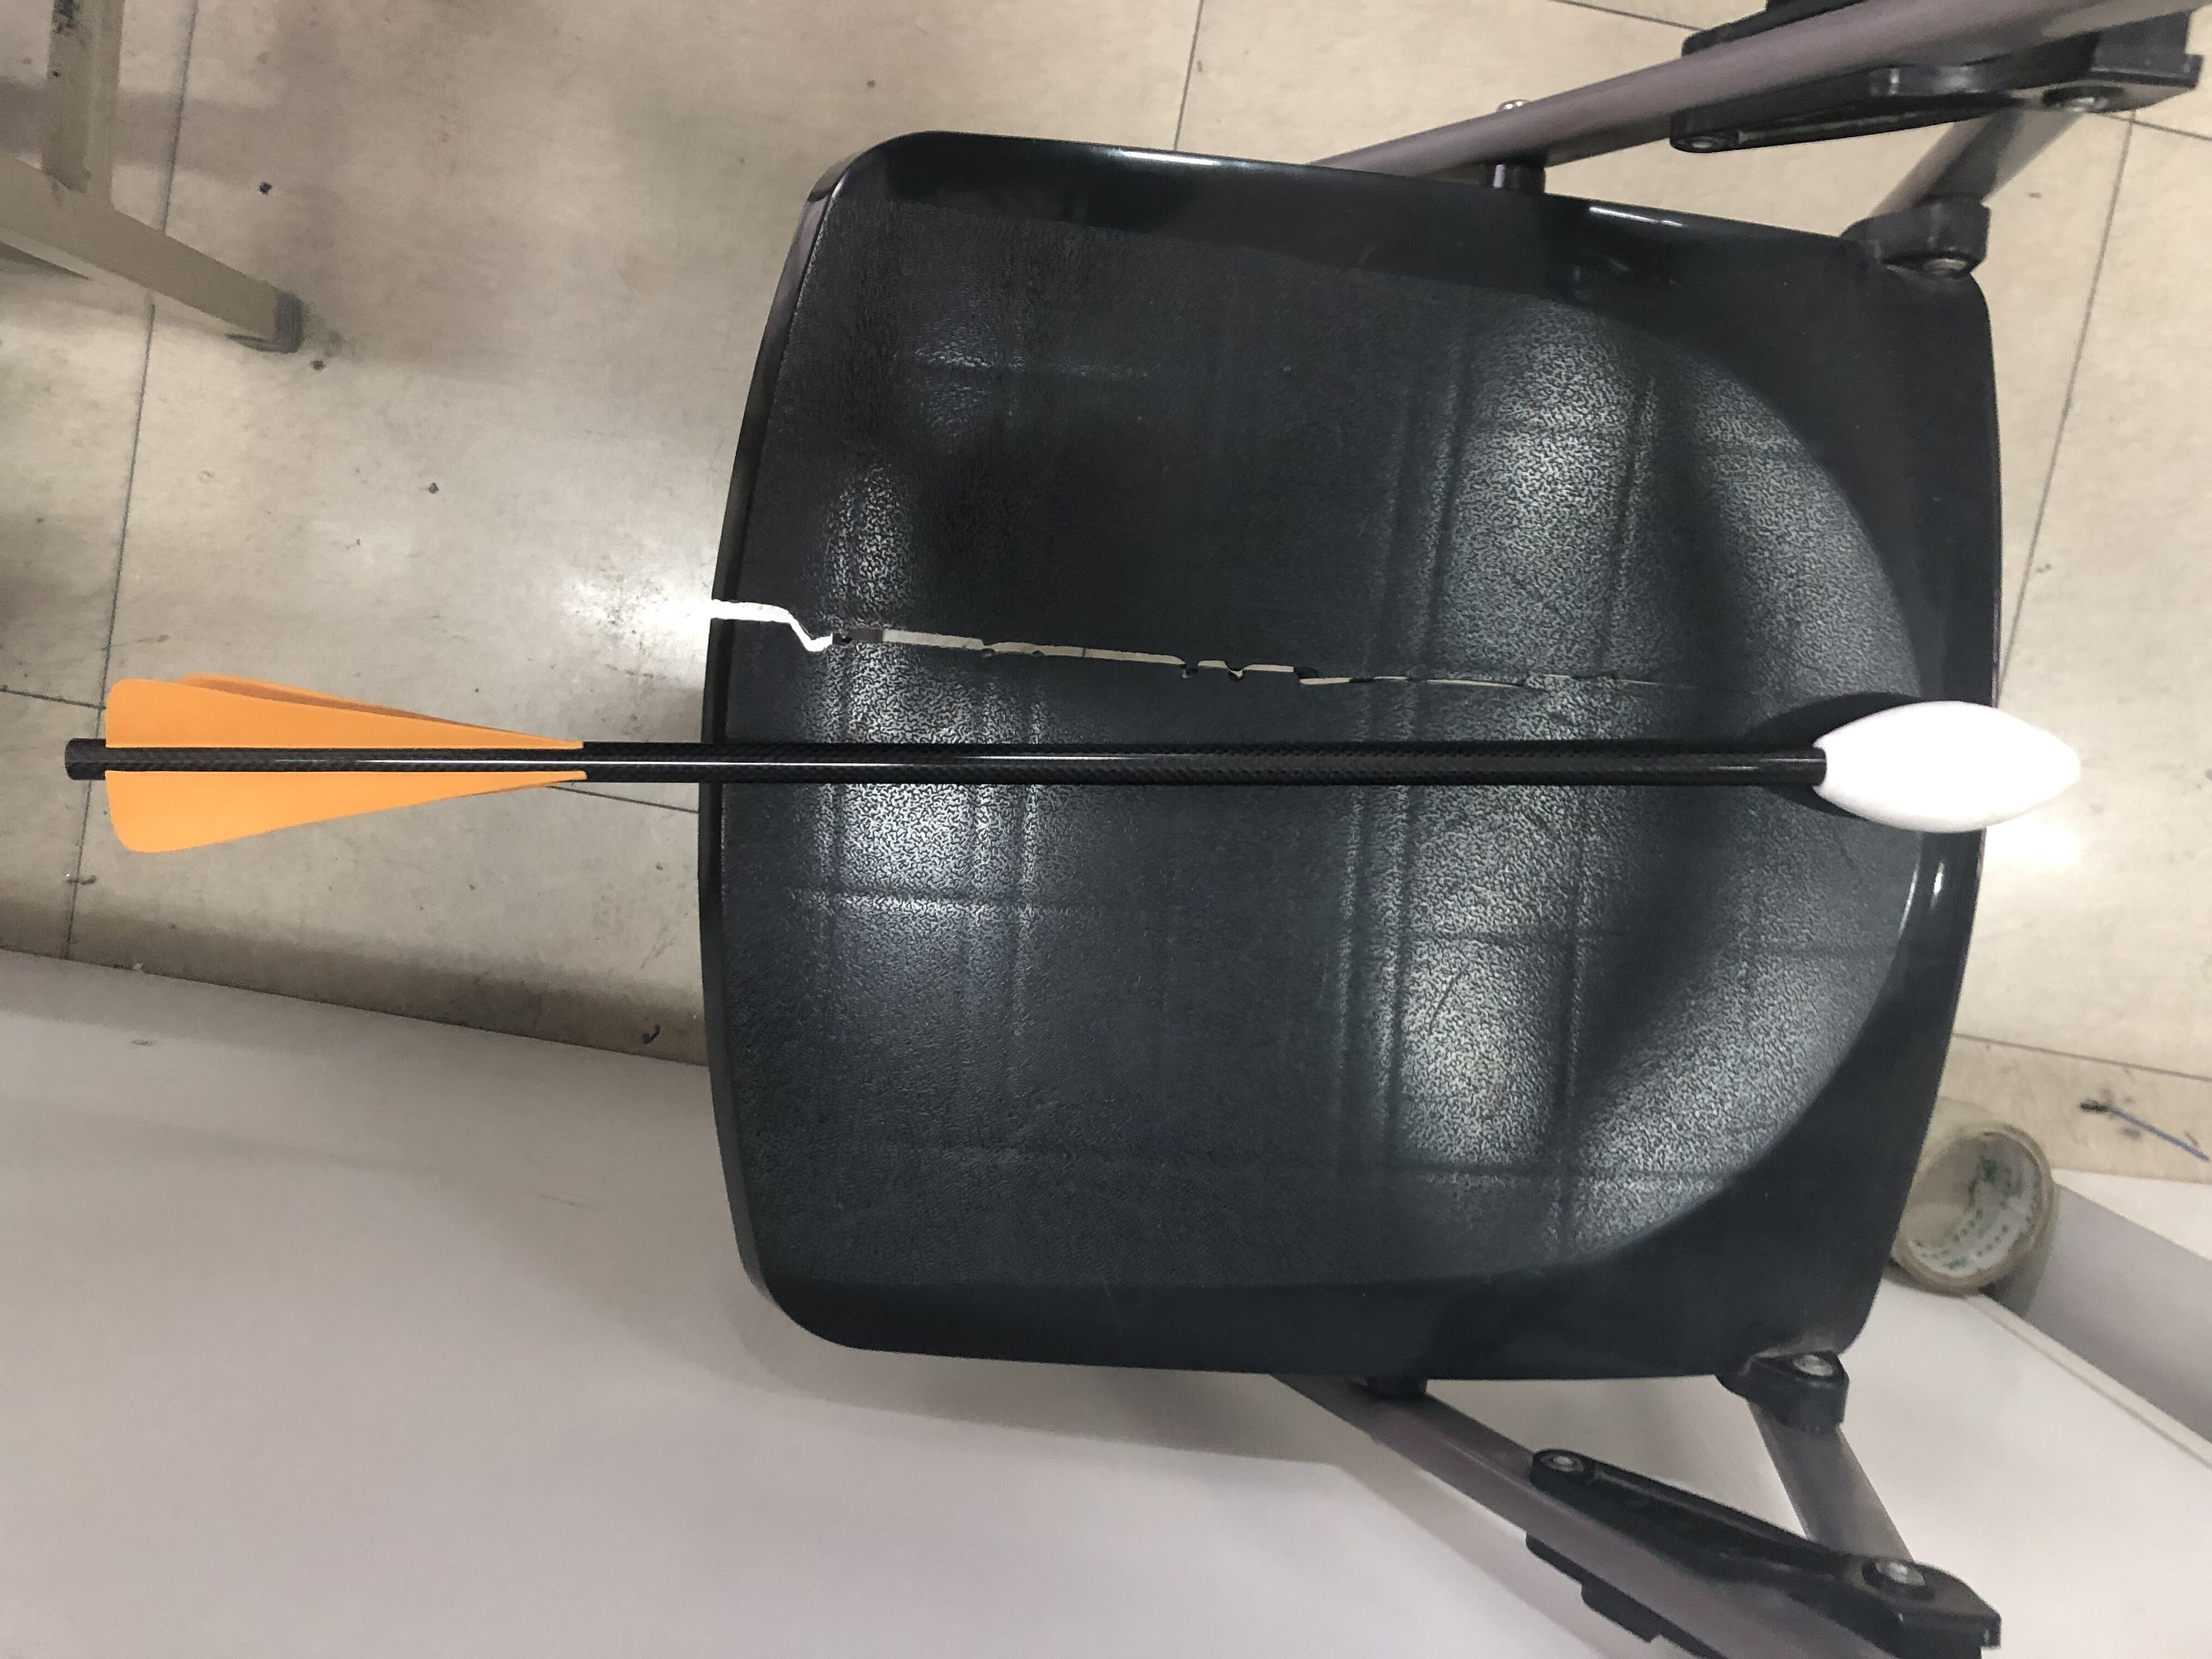arrow: (54, 662, 2090, 863)
arrowFront: (1808, 697, 2087, 840)
